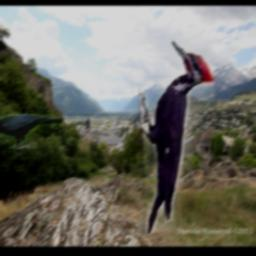Crow: (0, 115, 62, 150)
Woodpecker: (140, 40, 216, 233)
